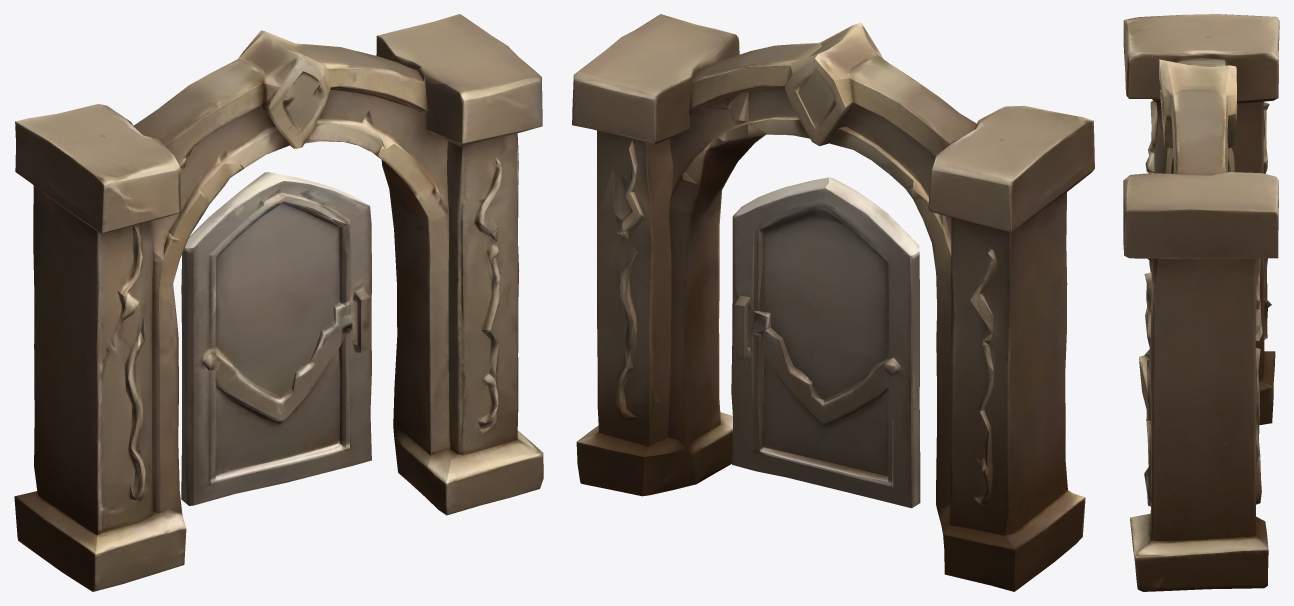
The model's file is m2ColorGate.glb.
The picture shows the model from 3 angles, left to right: view 1: azimuth 30°, elevation 25°; view 2: azimuth 150°, elevation 25°; view 3: azimuth 270°, elevation 25°; orthographic projection. The views are drawn at different scales.
Parts seen in each view (by area): view 1: model; view 2: model; view 3: model.
Part boxes in pixels (x1,y1,x2,y2): model: (14, 14, 543, 591); model: (572, 14, 1094, 591); model: (1123, 14, 1279, 591).
Bounding box in the file's own units: 1.87 × 1.9 × 0.6246.
1 material, 1 textured.
